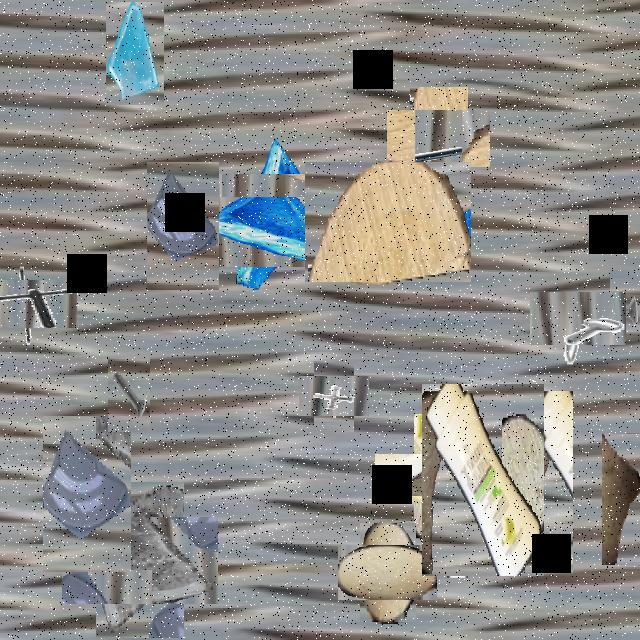glass: (216, 155, 346, 286), (79, 499, 201, 621), (43, 416, 131, 572), (147, 162, 219, 290), (106, 2, 164, 105)
metal: (399, 98, 479, 179), (540, 280, 616, 356), (0, 271, 68, 337), (108, 357, 150, 432), (306, 369, 362, 424), (610, 270, 640, 352)
plastic: (422, 384, 544, 576)
wood: (305, 162, 471, 282), (501, 391, 573, 573), (394, 433, 484, 522), (349, 534, 427, 611), (602, 434, 640, 565)
